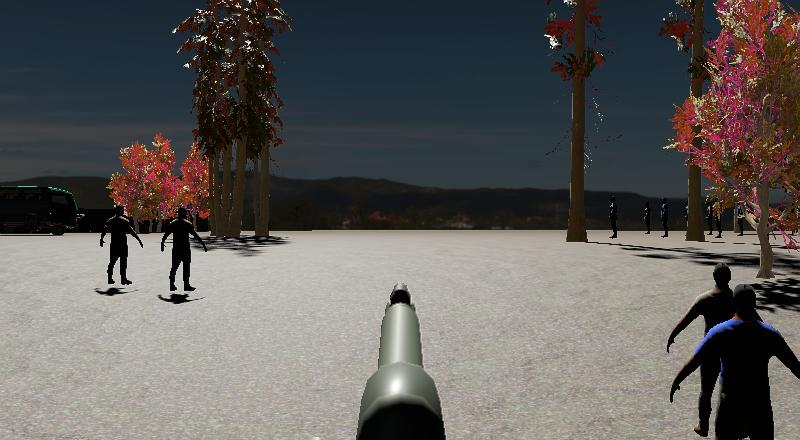Human: (667, 282, 800, 438)
car: (0, 184, 79, 236)
